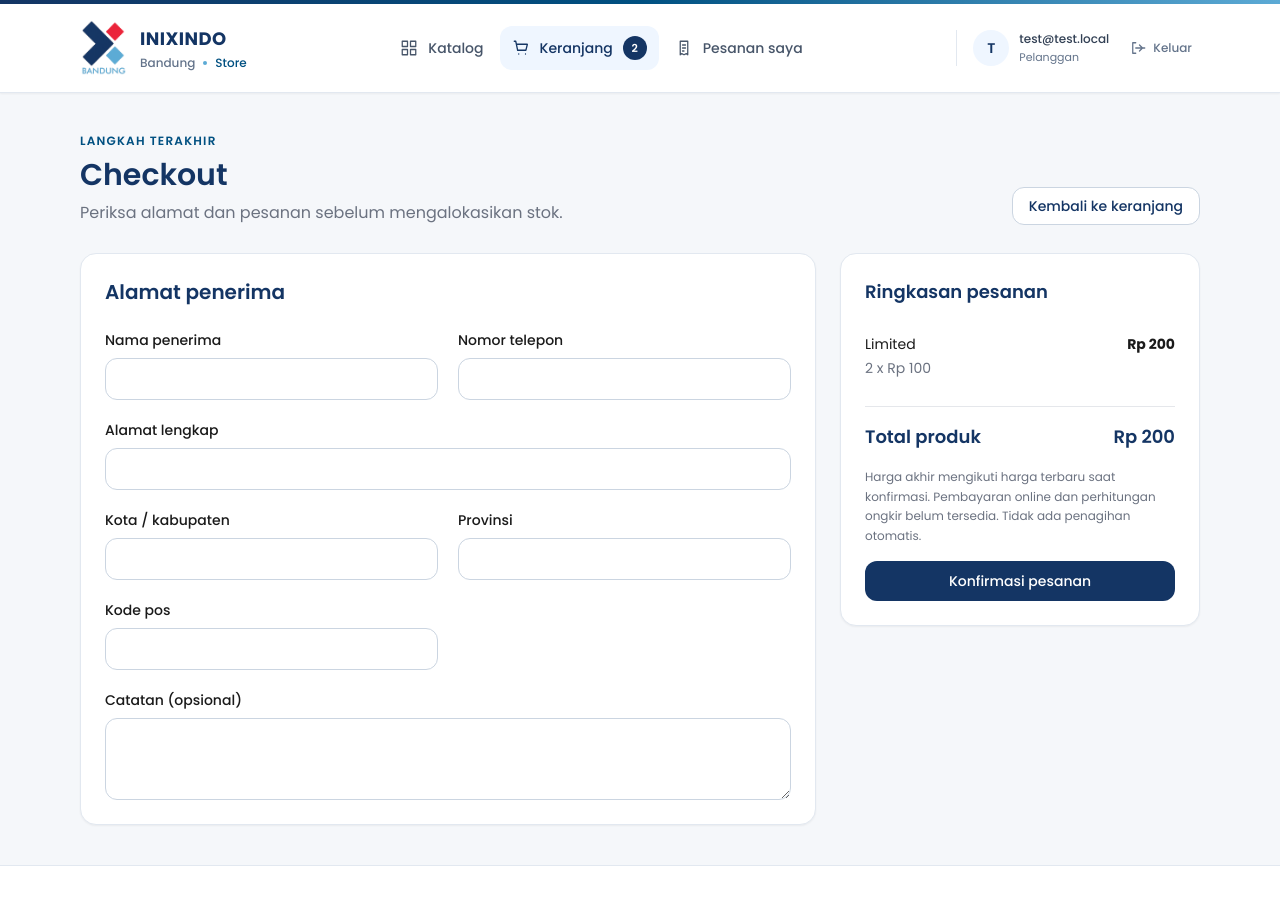
checkout submission › reports a hold-limit refusal as a definite answer, not an uncertain outcome
Type "Test Buyer" into the field labelled "Nama penerima". click: (272, 379)
box: [105,358,438,400]
Type "081234567890" into the field labelled "Nomor telepon". click: (624, 379)
box: [458,358,791,400]
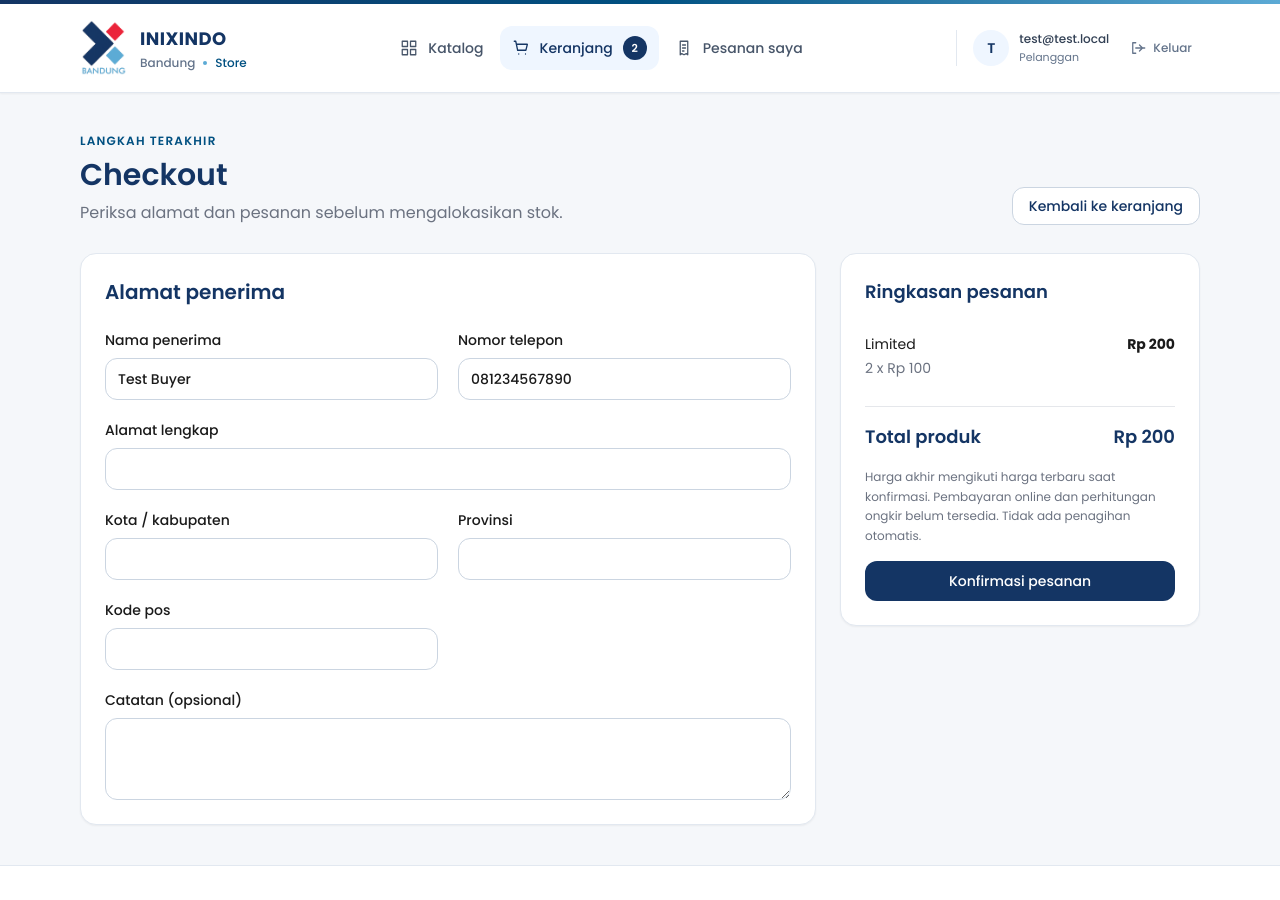
Type "Jalan Test 123" into the field labelled "Alamat lengkap". click: (448, 469)
box: [105,448,791,490]
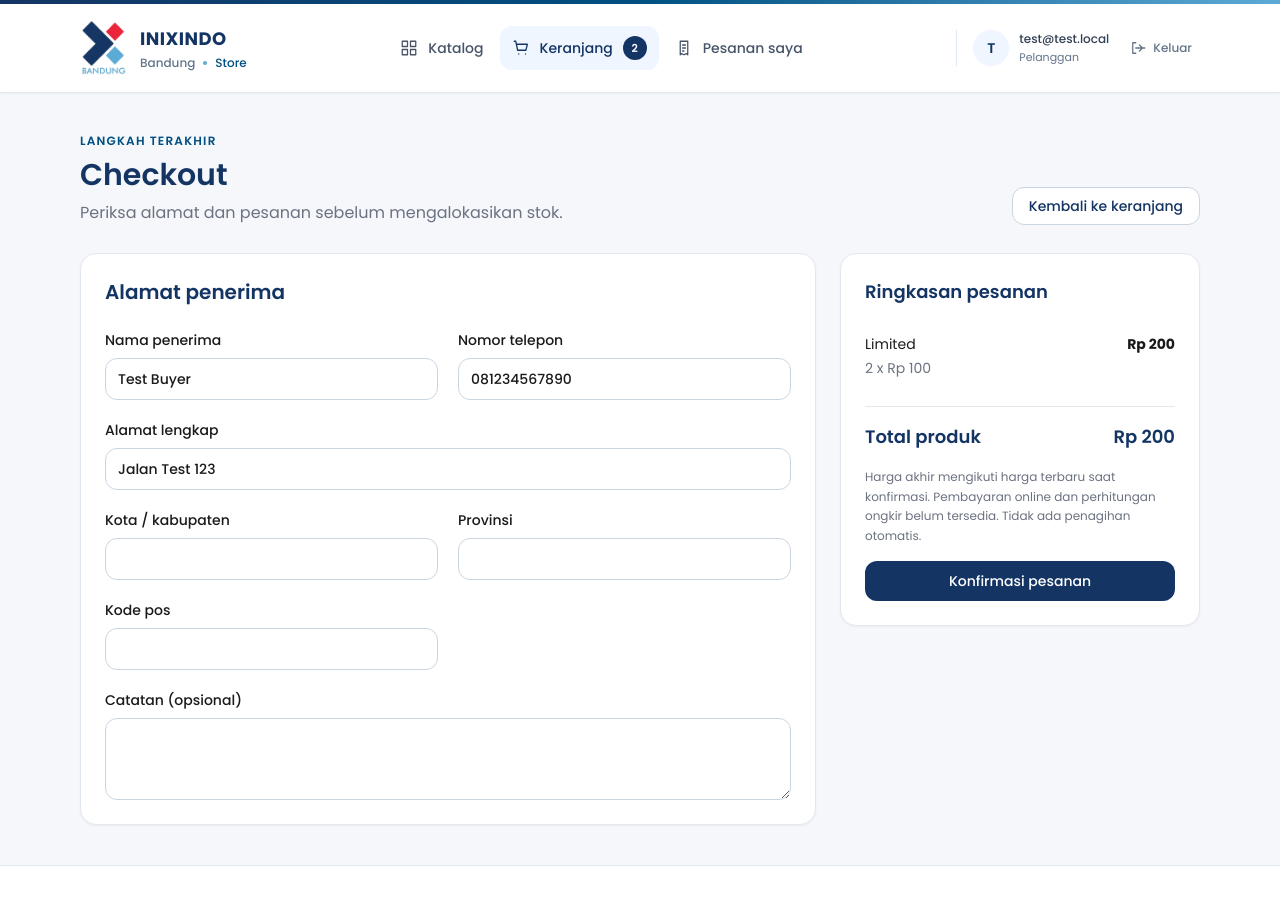
Type "Bandung" into the field labelled "Kota / kabupaten". click: (272, 559)
box: [105,538,438,580]
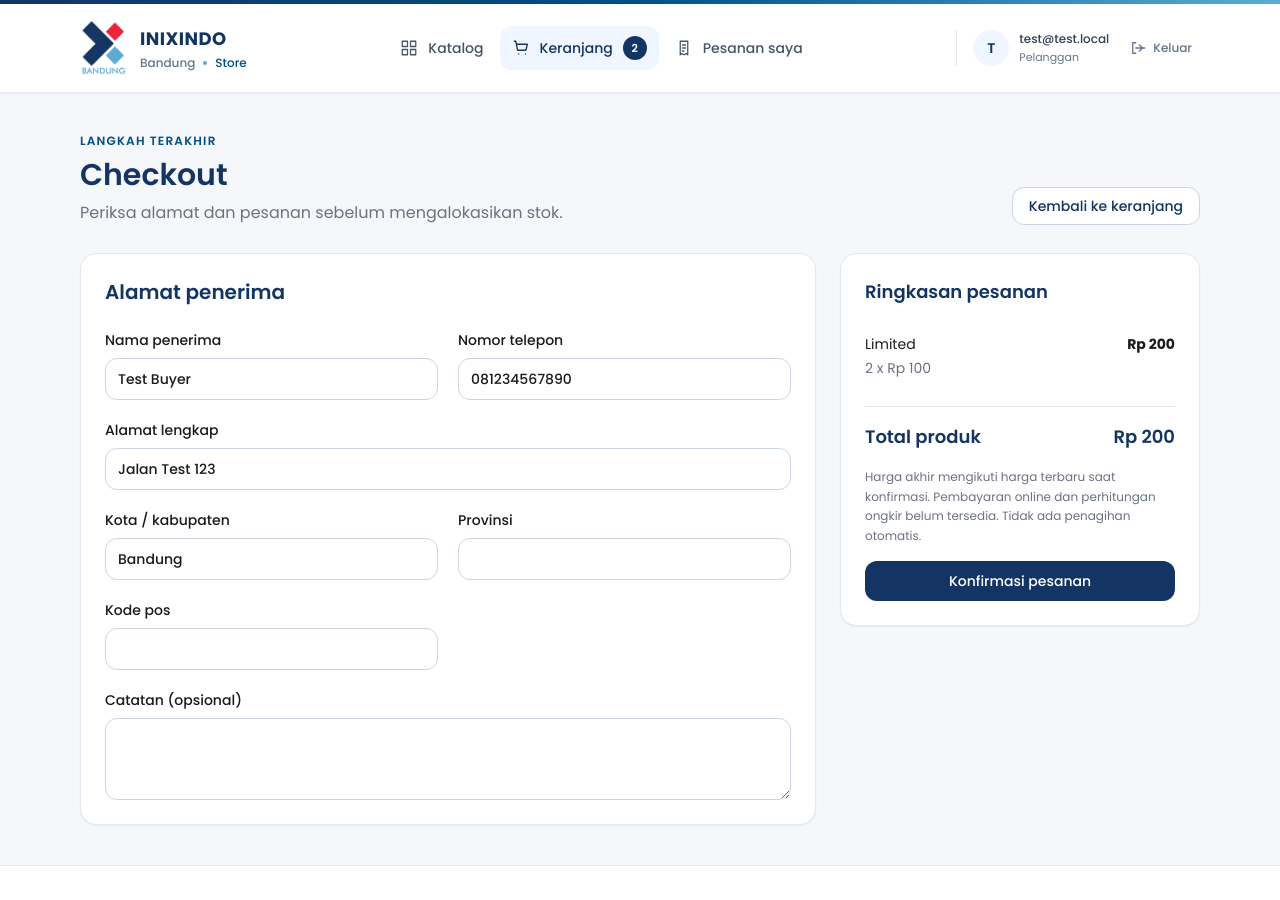
Type "Jawa Barat" into the field labelled "Provinsi". click: (624, 559)
box: [458,538,791,580]
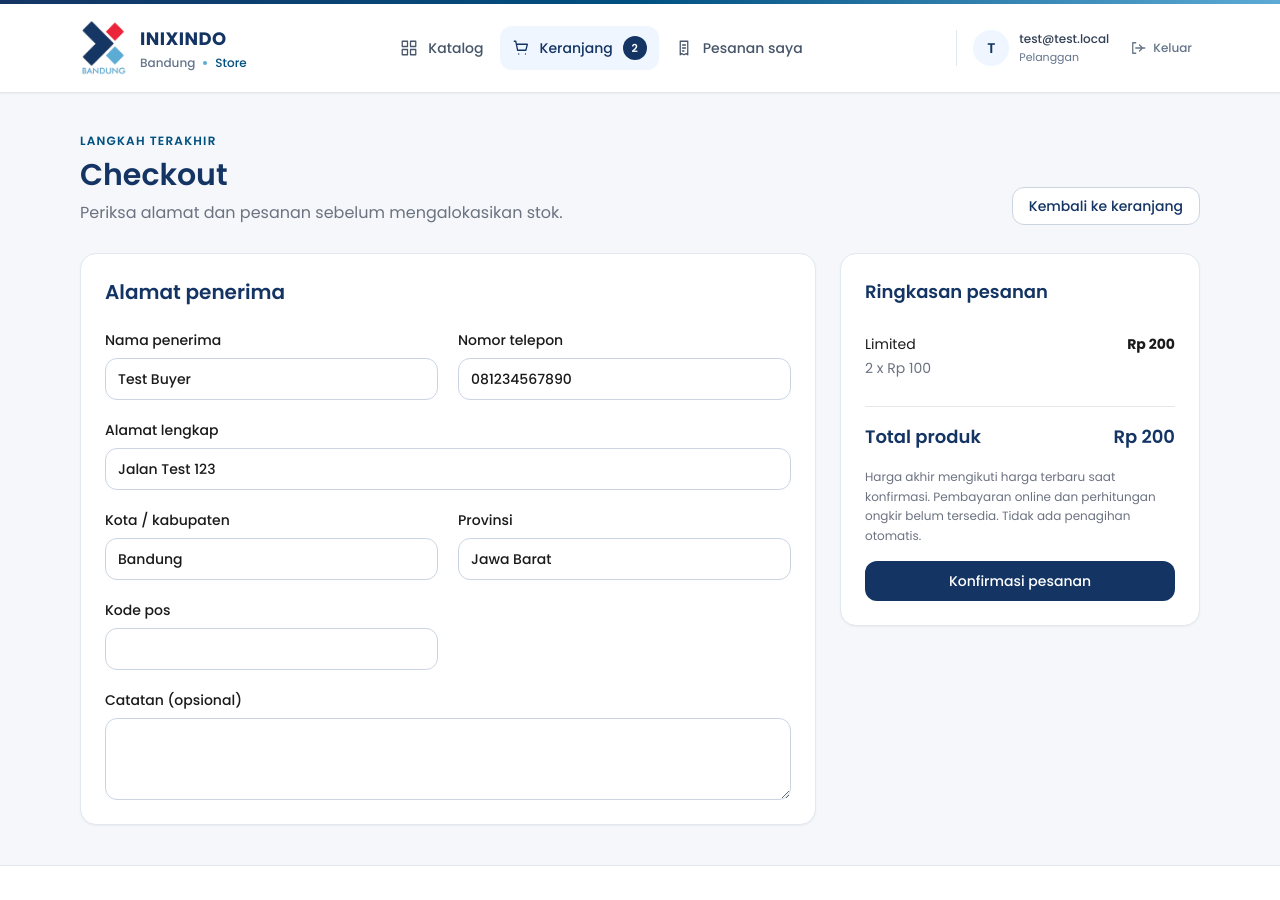
Type "40123" into the field labelled "Kode pos". click: (272, 649)
box: [105,628,438,670]
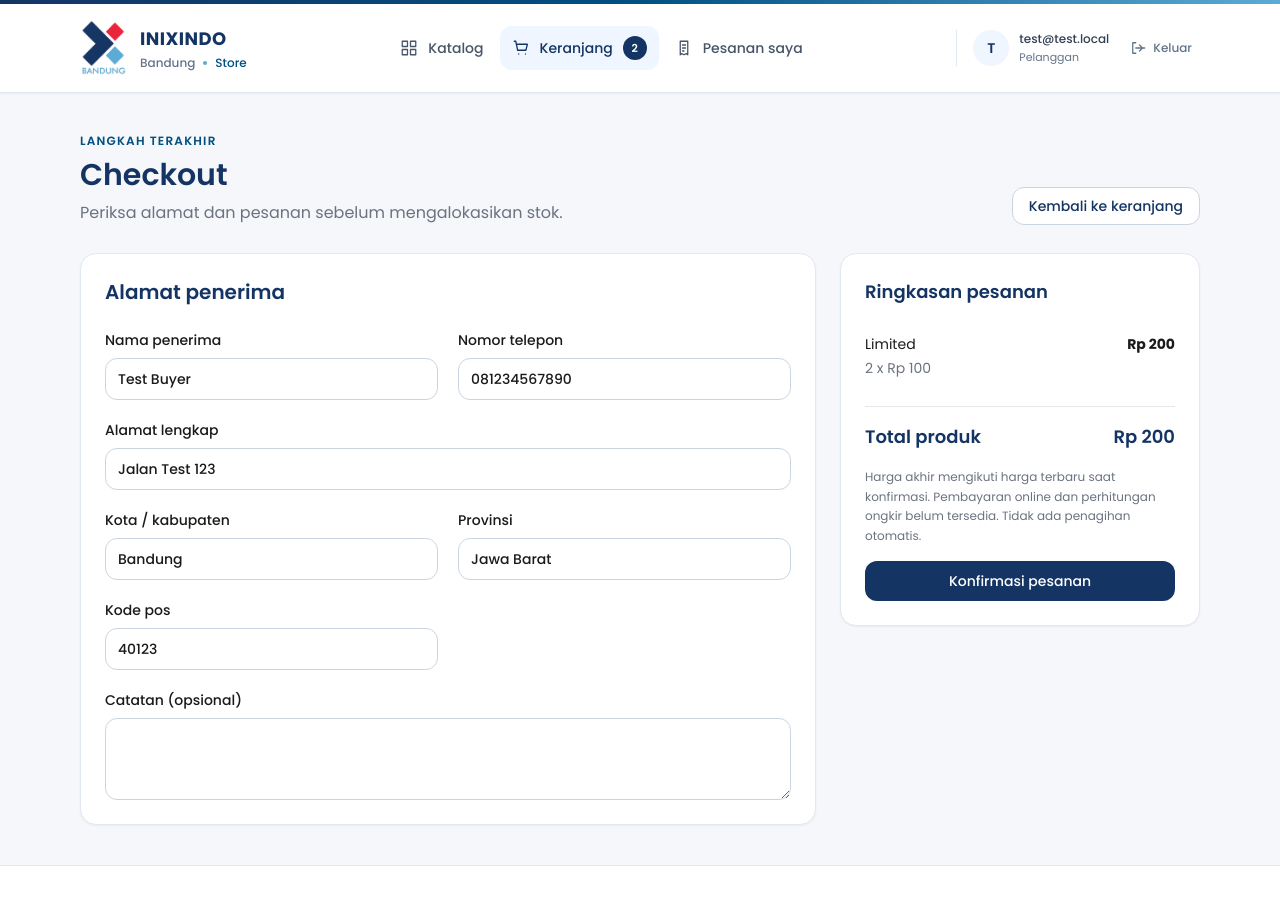
Click the button "Konfirmasi pesanan". click: (1020, 581)
box: [865,561,1175,601]
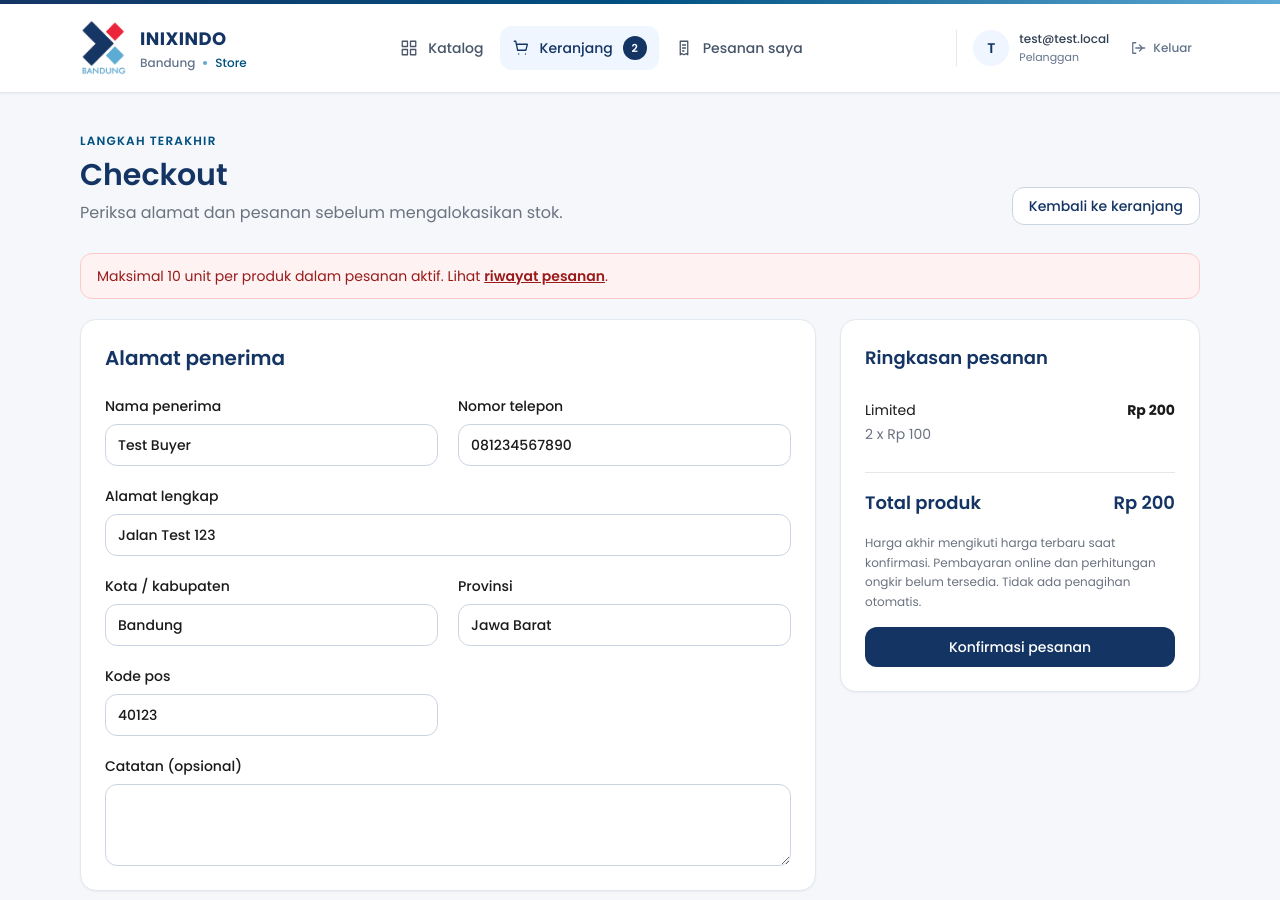
Expected: the text "Maksimal 10 unit per produk dalam pesanan aktif. Lihat riwayat pesanan ." does not show "belum pasti", [80,253,1200,299]
Now the text "Maksimal 10 unit per produk dalam pesanan aktif. Lihat riwayat pesanan ." is shown, box [80,253,1200,299]
